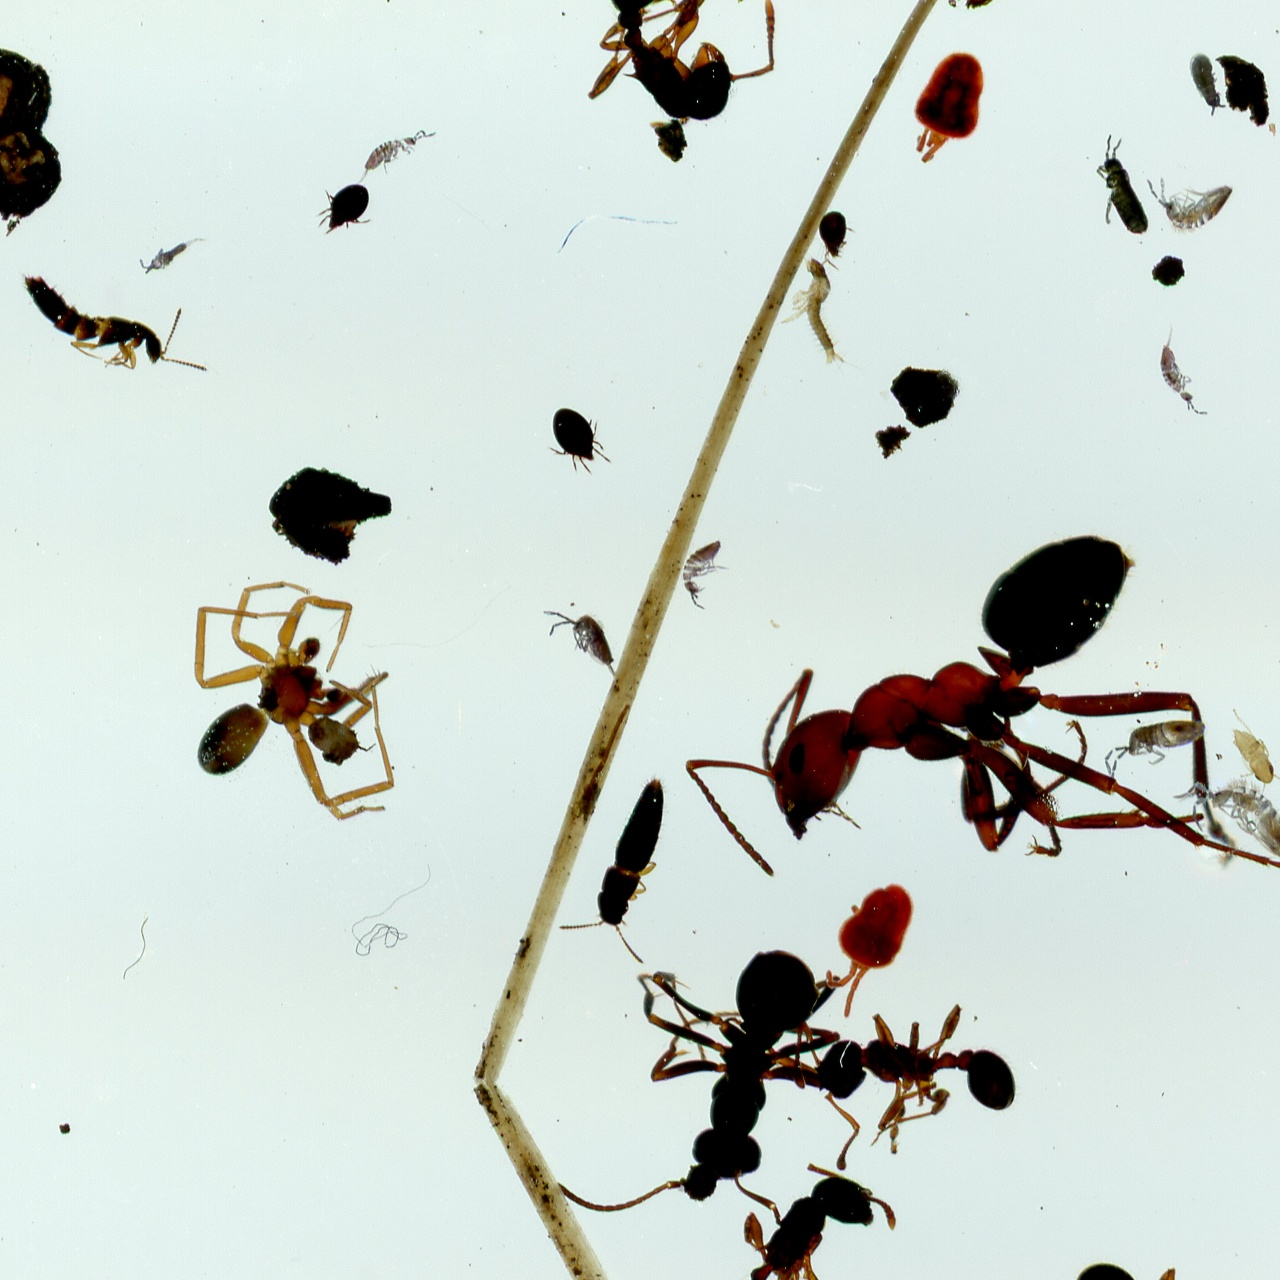arthropod: (669, 444, 1280, 1152), (546, 901, 866, 1265), (184, 579, 397, 824), (796, 999, 1024, 1173), (667, 1129, 919, 1280), (550, 747, 695, 973), (7, 259, 230, 395), (584, 0, 782, 148), (996, 1212, 1280, 1280), (813, 866, 928, 1032), (897, 38, 1005, 181), (779, 252, 867, 379), (1080, 127, 1160, 253), (529, 393, 624, 493), (1170, 776, 1280, 860), (1208, 692, 1280, 816), (1141, 313, 1211, 428), (1103, 715, 1206, 781), (539, 604, 619, 688), (308, 171, 386, 250), (1145, 173, 1239, 237), (354, 122, 438, 186), (1179, 45, 1232, 127), (676, 533, 729, 614), (132, 232, 211, 277), (818, 209, 859, 272)
